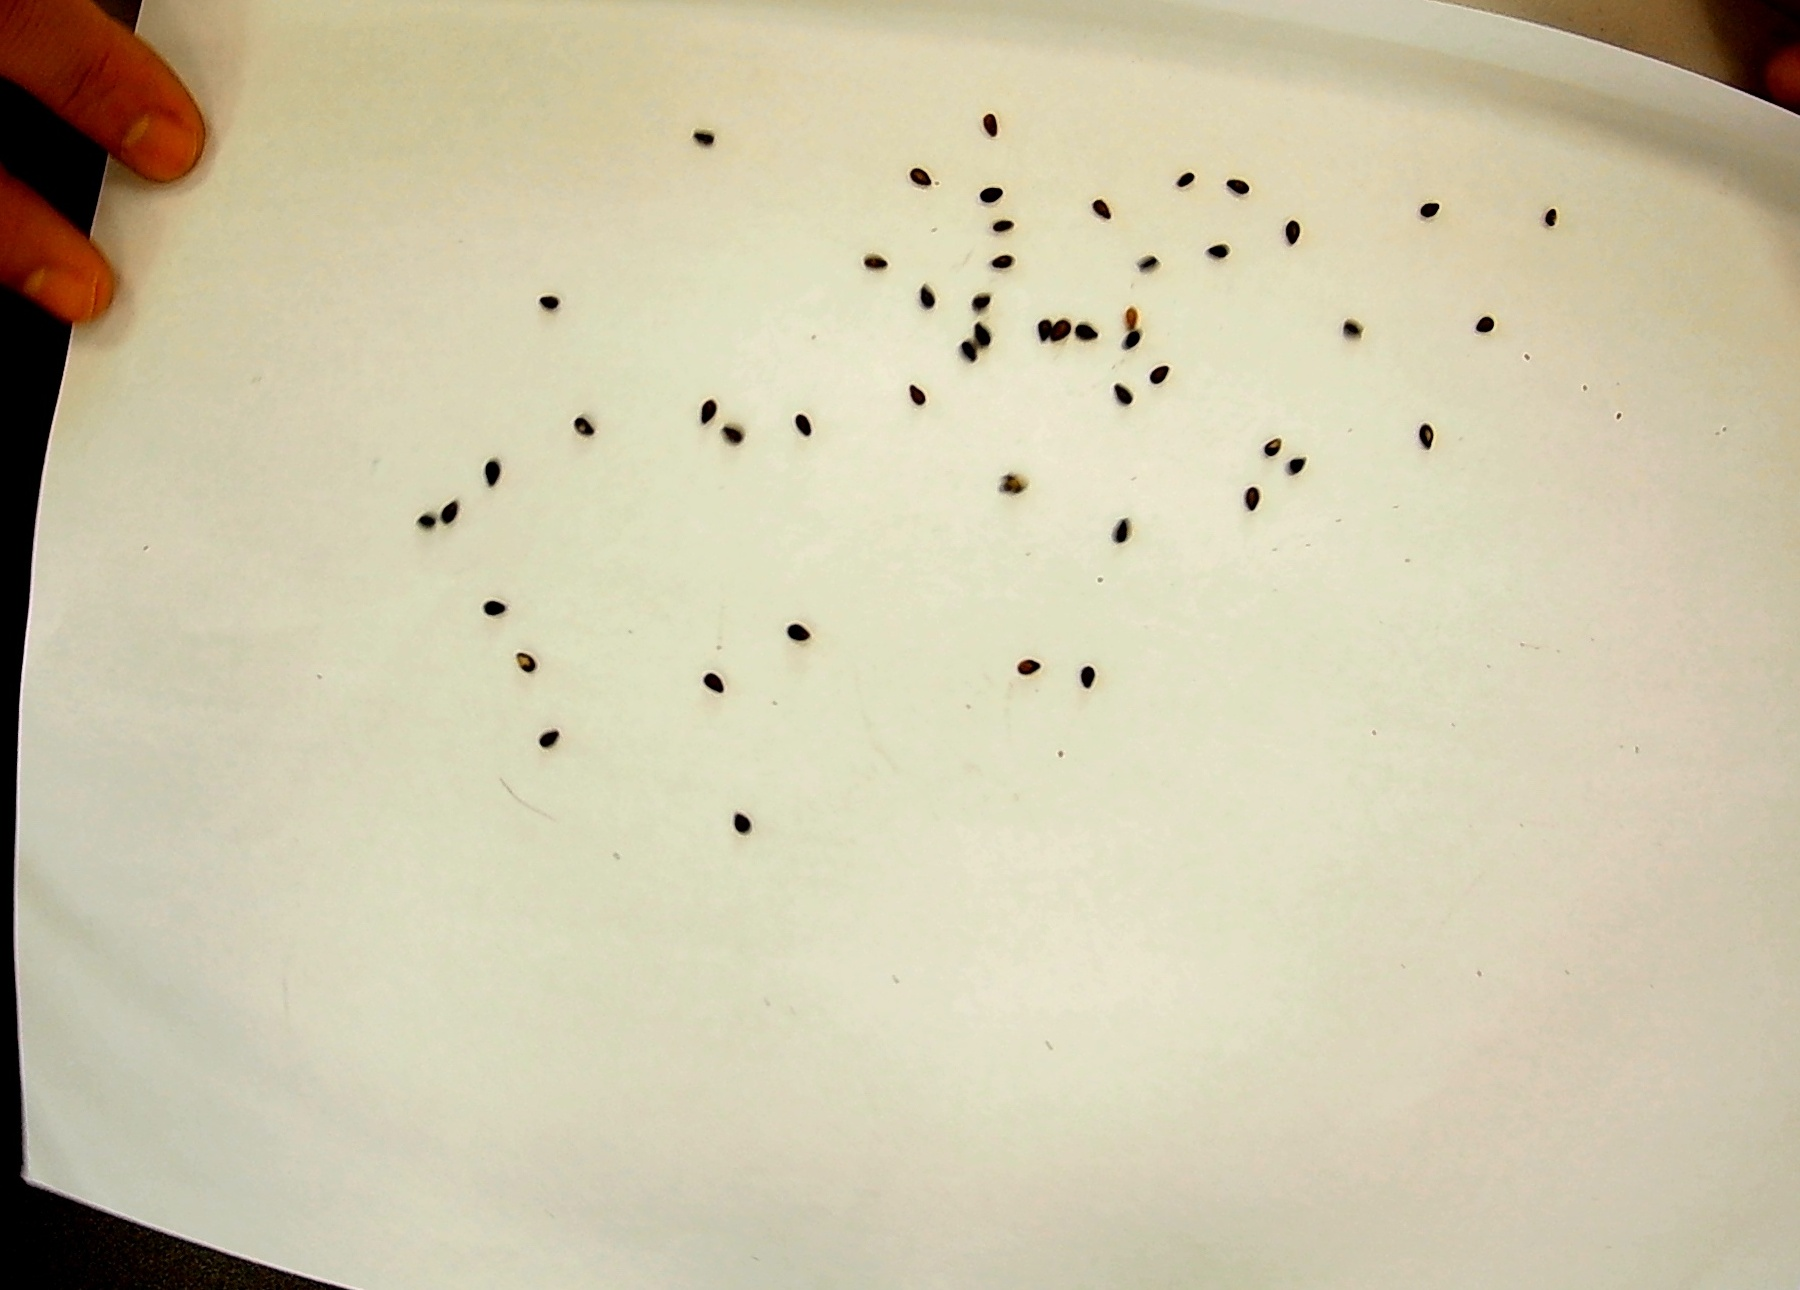sesami: (695, 658, 733, 697), (1102, 510, 1140, 549), (995, 464, 1033, 503), (968, 103, 1006, 142), (1122, 290, 1160, 329), (1107, 369, 1144, 408), (1287, 457, 1324, 496), (473, 589, 511, 627), (507, 642, 544, 680), (721, 808, 759, 846), (1076, 656, 1113, 694), (887, 378, 925, 416), (707, 422, 745, 459), (400, 501, 438, 539), (977, 166, 1014, 204), (970, 281, 1007, 318), (968, 307, 1006, 345), (914, 283, 952, 321), (1019, 303, 1056, 341), (1041, 307, 1079, 345), (1122, 328, 1160, 366), (1154, 343, 1192, 381), (1157, 154, 1194, 191), (1220, 169, 1257, 207), (1194, 222, 1232, 260), (1273, 207, 1310, 244), (1533, 201, 1571, 239), (1413, 416, 1451, 454), (1240, 480, 1278, 518), (698, 383, 734, 422), (523, 276, 560, 316), (851, 244, 887, 283), (539, 723, 575, 761), (770, 616, 807, 653), (1003, 641, 1040, 679), (791, 410, 827, 448), (562, 416, 599, 454), (466, 447, 502, 484), (445, 487, 481, 525), (685, 112, 721, 149), (908, 156, 945, 194), (985, 204, 1021, 242), (985, 251, 1021, 289), (959, 339, 995, 377), (1070, 318, 1107, 356), (1120, 250, 1157, 288), (1074, 187, 1111, 225), (1405, 191, 1441, 229), (1473, 306, 1510, 343), (1246, 424, 1282, 462), (1331, 307, 1367, 345)
